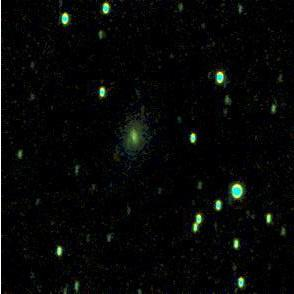star: (128, 91, 158, 121)
